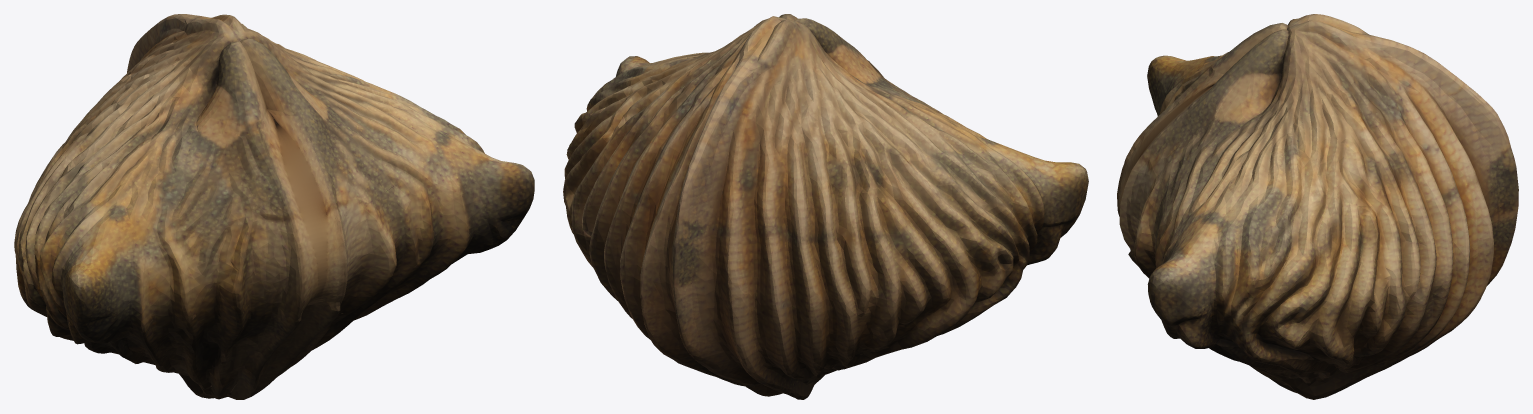
3 views of the same model, side by side, from view 1: azimuth 30°, elevation 25°; view 2: azimuth 150°, elevation 25°; view 3: azimuth 270°, elevation 25° (orthographic).
Visible parts, largest first — view 1: Bounded surface, in-memory only; view 2: Bounded surface, in-memory only; view 3: Bounded surface, in-memory only.
Part boxes in pixels (x1=…): Bounded surface, in-memory only: x1=14, y1=14, x2=534, y2=399; Bounded surface, in-memory only: x1=563, y1=14, x2=1088, y2=399; Bounded surface, in-memory only: x1=1117, y1=14, x2=1518, y2=399.
Size of the model in its own units: 0.9998 by 0.7751 by 0.76.
3 materials, 3 textured.
